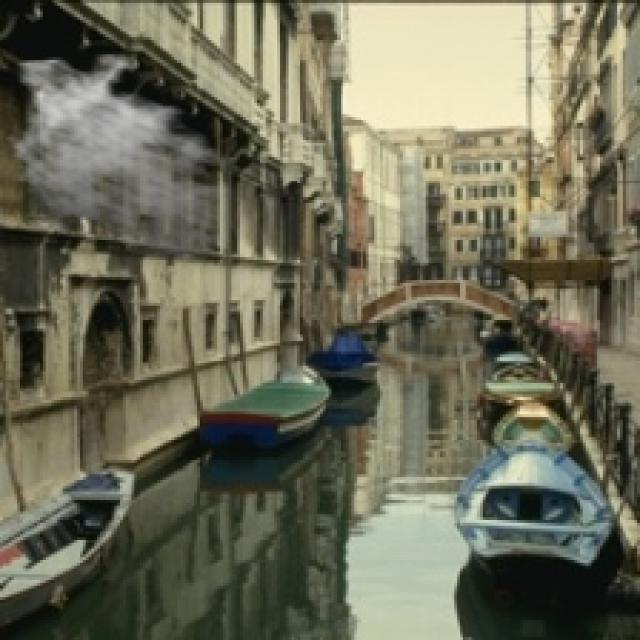smoke: (3, 51, 251, 266)
